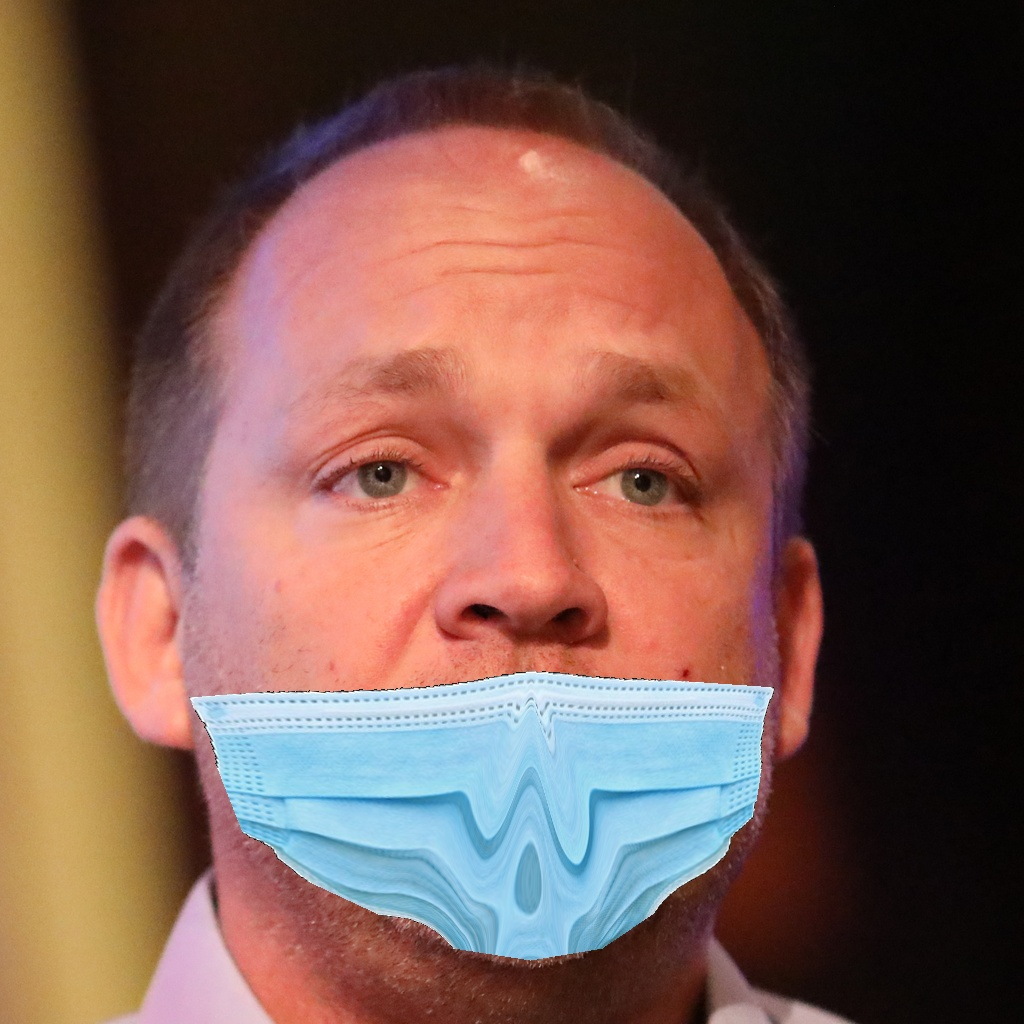mask_weared_incorrect: (173, 340, 801, 977)
